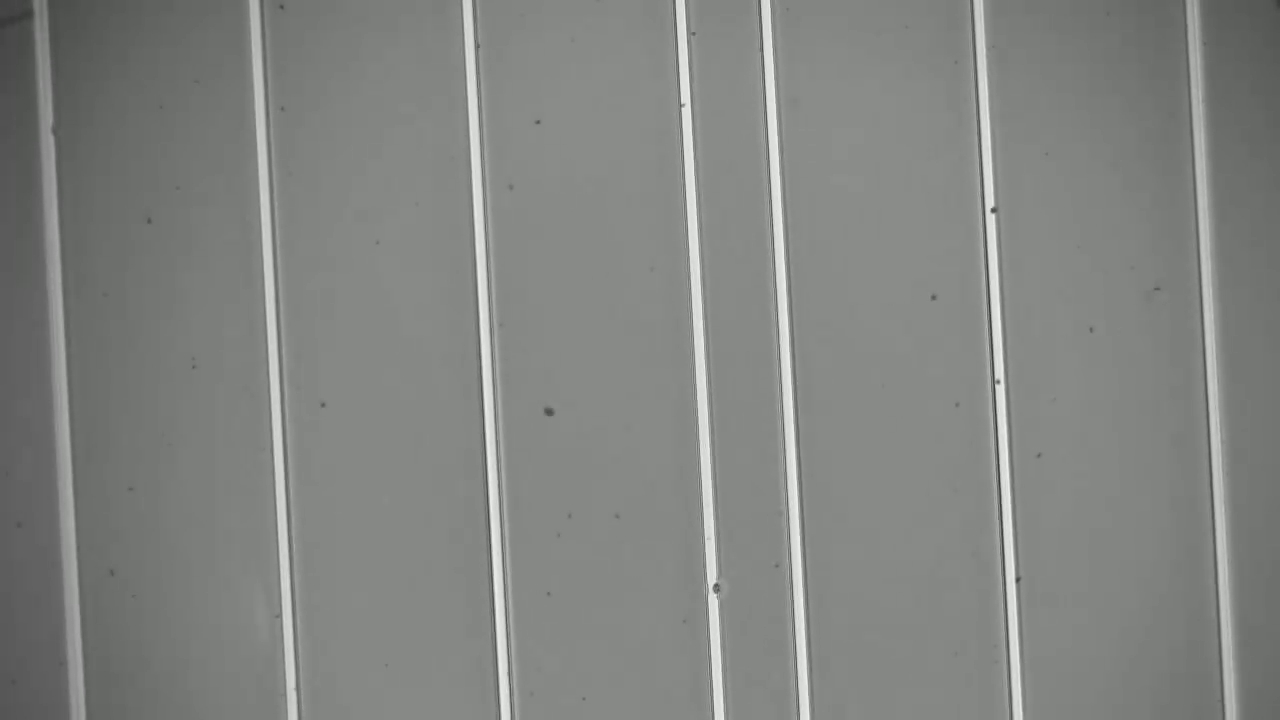stains_enbedded: (697, 573, 724, 603)
